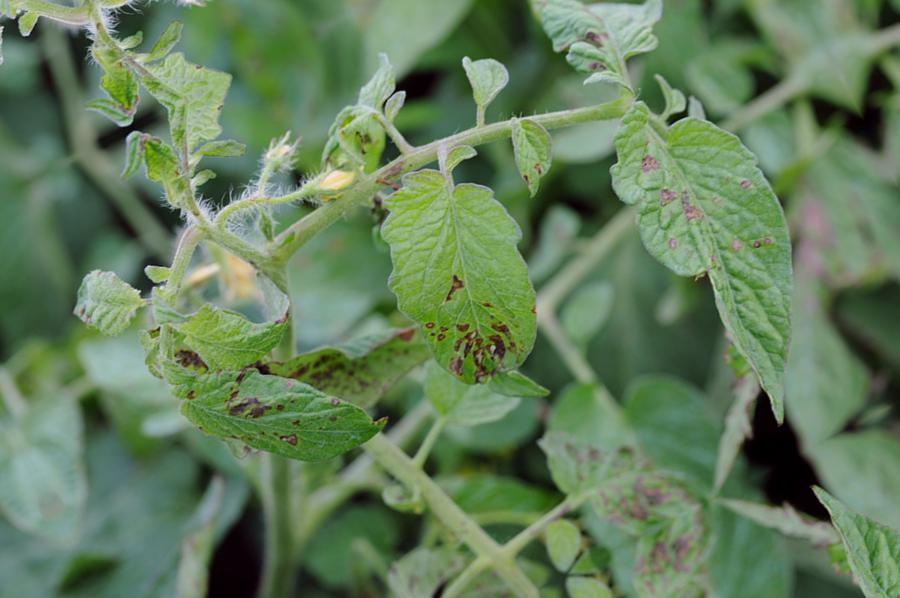Tomato leaf bacterial spot: (580, 76, 881, 463), (352, 139, 596, 435), (133, 287, 372, 542)
